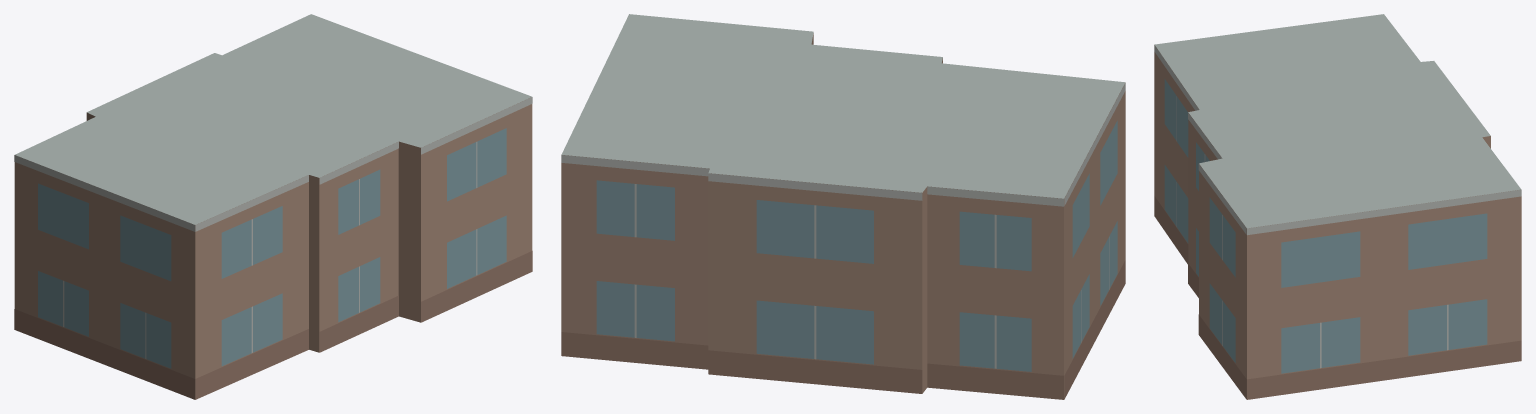
The model's file is survey-upis-32662921.glb.
3 views of the same model, side by side, from view 1: azimuth 30°, elevation 25°; view 2: azimuth 150°, elevation 25°; view 3: azimuth 270°, elevation 25° (orthographic). The views are drawn at different scales.
Parts seen in each view (by area): view 1: survey-upis-32662921.tmp; view 2: survey-upis-32662921.tmp; view 3: survey-upis-32662921.tmp.
Part boxes in pixels (bbox=[...]): survey-upis-32662921.tmp: bbox=[14, 14, 532, 399]; survey-upis-32662921.tmp: bbox=[561, 14, 1125, 399]; survey-upis-32662921.tmp: bbox=[1154, 14, 1521, 399].
Size of the model in its own units: 16.36 by 6.1 by 11.85.
